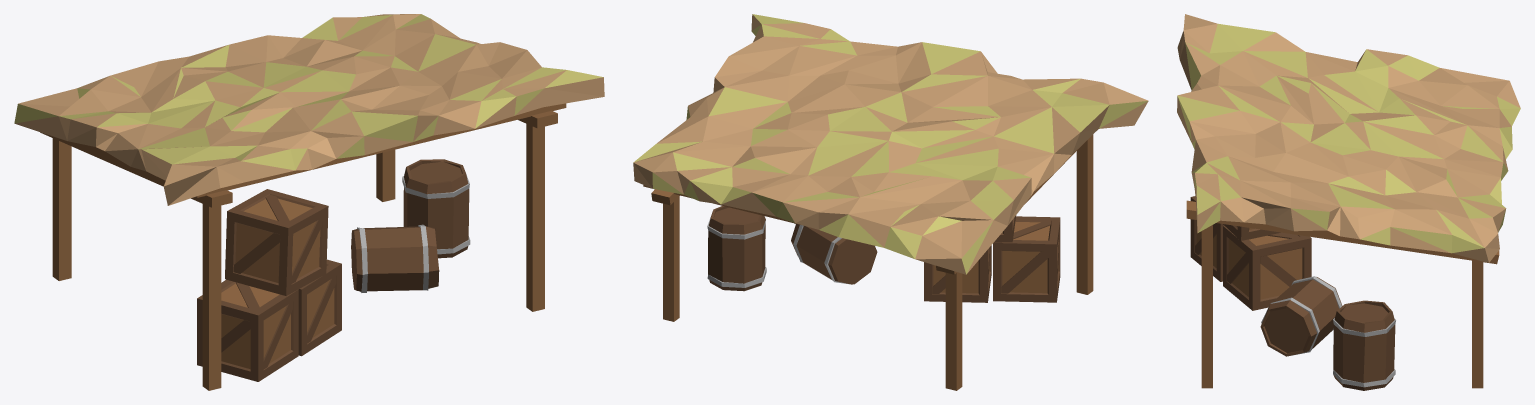
Rendered from Warehouse_1_lvl_mat.fbx.
The picture shows the model from 3 angles, left to right: view 1: azimuth 30°, elevation 25°; view 2: azimuth 150°, elevation 25°; view 3: azimuth 270°, elevation 25°; orthographic projection. The views are drawn at different scales.
Visible parts, largest first — view 1: Warehouse_1_lvl_mat; view 2: Warehouse_1_lvl_mat; view 3: Warehouse_1_lvl_mat.
Boxes of the visible parts, bbox=[...] form: Warehouse_1_lvl_mat: bbox=[14, 14, 604, 390]; Warehouse_1_lvl_mat: bbox=[633, 14, 1148, 390]; Warehouse_1_lvl_mat: bbox=[1177, 14, 1520, 390].
Bounding box in the file's own units: 4.4 × 2.18 × 3.24.
